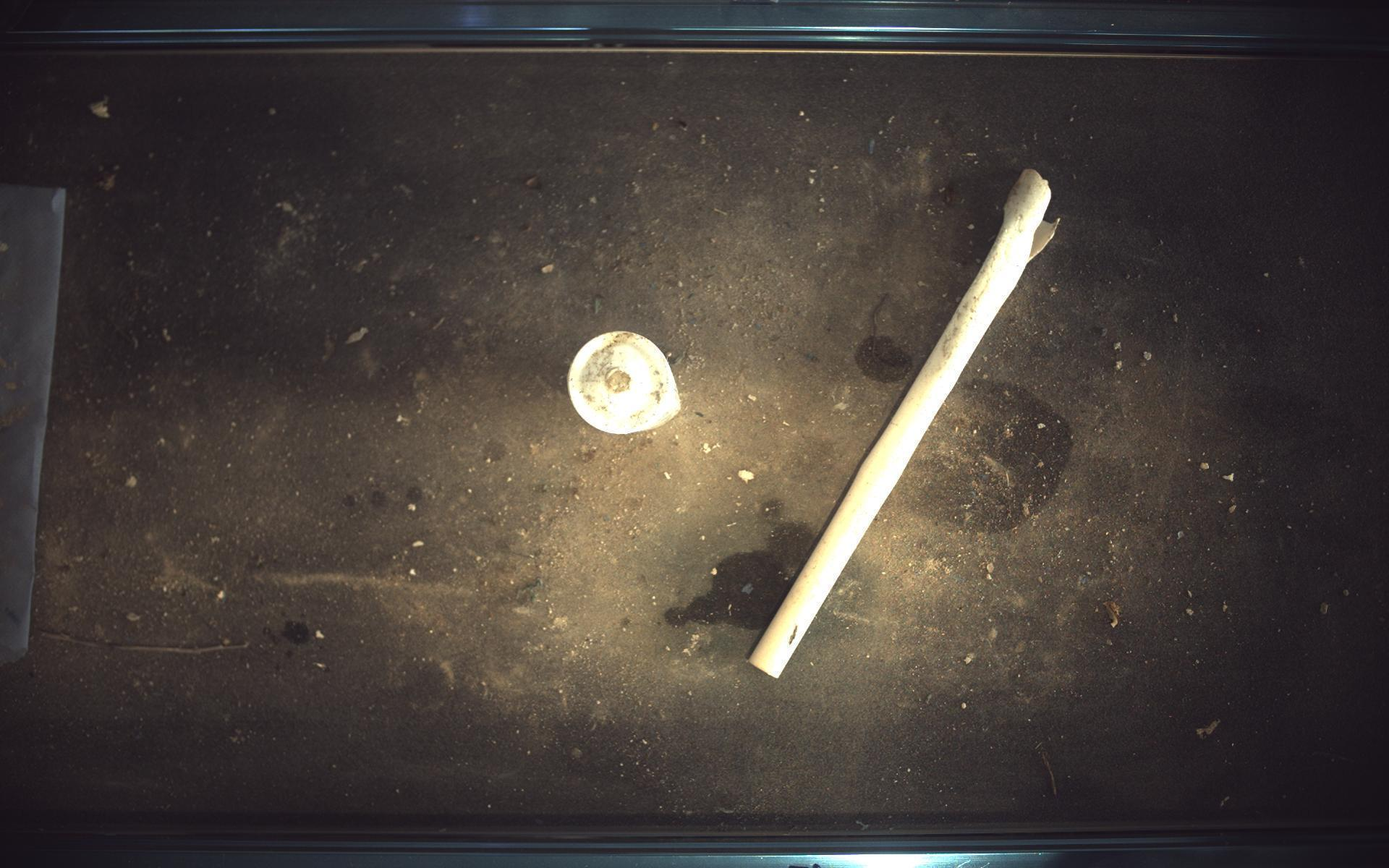pipes: (750, 169, 1059, 678)
plastic: (569, 331, 681, 434)
